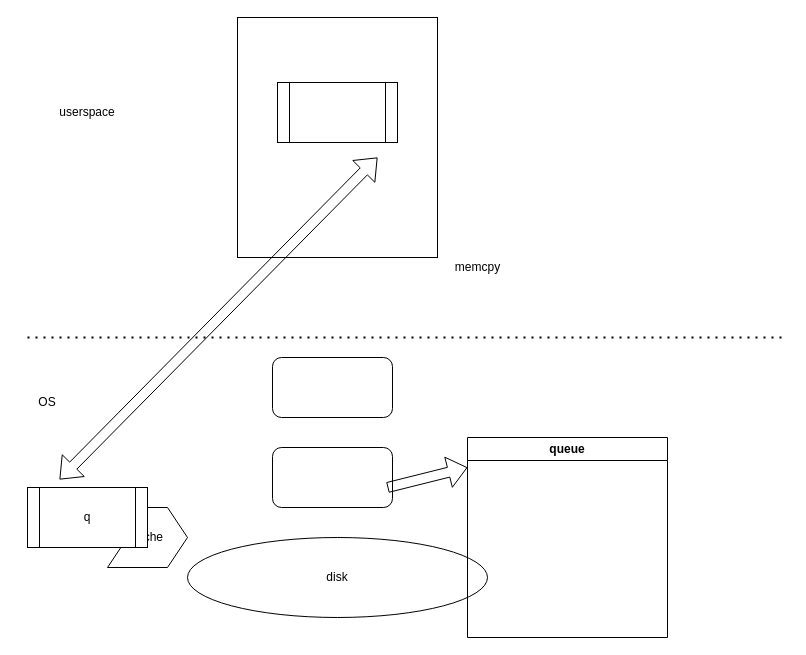
Some shapes in this 806 by 655 pixel diagram are drawn without their labels. The box of each missing label's shape, as (x1, y1, x2, y2) in pixels:
block device: (272, 446, 392, 508)
file system code: (272, 356, 392, 418)
